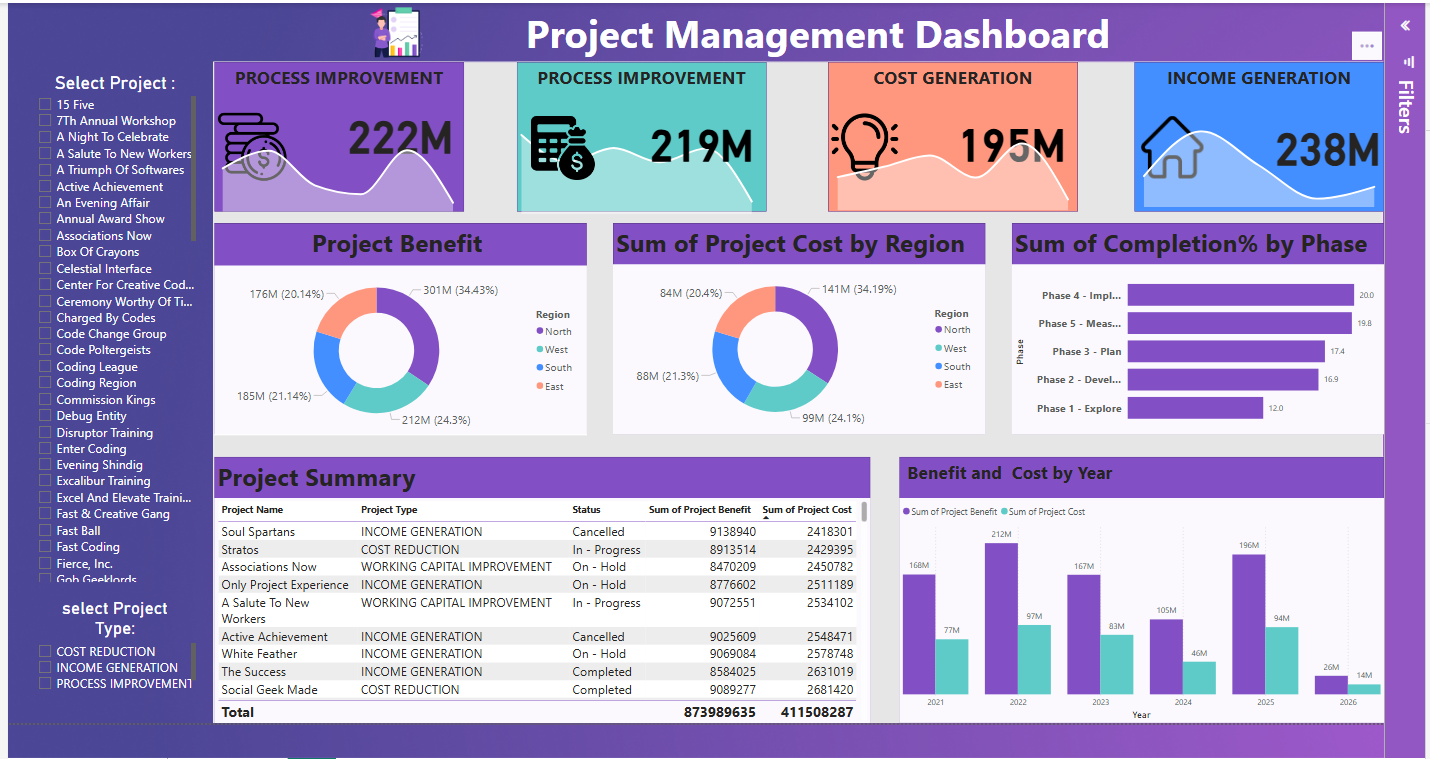

The page's visual inventory and layout, read from the dashboard file:
{"tool":"powerbi","page":{"name":"dash pord","canvas":[2100,1100],"ordinal":0},"visuals":[{"type":"shape","box":[312.9,89.7,1785.6,1011.1],"z":0},{"type":"slicer","title":"Select Project :","fields":{"Values":["Project Management Dataset.Project Name"]},"box":[34.3,104.9,257.5,784.1],"z":1000},{"type":"slicer","title":"select Project Type:","fields":{"Values":["Project Management Dataset.Project Type"]},"box":[34.3,908.1,257.5,148.8],"z":2000},{"type":"shape","box":[314.8,89.7,381.5,228.9],"z":3000},{"type":"shape","box":[776.4,89.7,381.5,228.9],"z":4000},{"type":"shape","box":[1251.5,89.7,381.5,228.9],"z":5000},{"type":"shape","box":[1718.8,89.7,381.5,228.9],"z":6000},{"type":"shape","box":[314.8,335.8,568.5,322.4],"z":7000},{"type":"shape","box":[1531.9,335.8,568.5,322.4],"z":8000},{"type":"shape","box":[923.3,335.8,568.5,322.4],"z":9000},{"type":"shape","box":[314.8,692.5,1001.5,408.2],"z":10000},{"type":"shape","box":[1360.2,692.5,740.2,408.2],"z":11000},{"type":"textbox","box":[314.8,89.7,381.5,72.5],"z":12000},{"type":"image","box":[314.8,162.2,116.4,114.5],"z":13000},{"type":"card","fields":{"Values":["Daxpr.proceess"]},"box":[503.6,146.9,190.8,99.2],"z":14000},{"type":"areaChart","fields":{"Y":["Daxpr.proceess"],"Category":["pr.End Date.Variation.Date Hierarchy.Year"]},"box":[312.9,185,381.5,139.3],"z":15000},{"type":"textbox","box":[1718.8,89.7,381.5,72.5],"z":16000},{"type":"textbox","box":[776.4,89.7,381.5,72.5],"z":17000},{"type":"textbox","box":[1251.5,89.7,381.5,72.5],"z":18000},{"type":"textbox","box":[1718.8,89.7,381.5,72.5],"z":19000},{"type":"areaChart","fields":{"Y":["Daxpr.working"],"Category":["pr.End Date.Variation.Date Hierarchy.Year"]},"box":[768.8,171.7,381.5,156.4],"z":20000},{"type":"image","box":[776.4,166,141.2,110.6],"z":21000},{"type":"card","fields":{"Values":["Daxpr.working"]},"box":[959.6,162.2,198.4,91.6],"z":22000},{"type":"image","box":[1251.5,162.2,112.6,114.5],"z":23000},{"type":"card","fields":{"Values":["Daxpr.cost"]},"box":[1436.5,162.2,190.8,91.6],"z":24000},{"type":"image","box":[1718.8,167.9,116.4,104.9],"z":25000},{"type":"card","fields":{"Values":["Daxpr.incme"]},"box":[1928.7,166,171.7,95.4],"z":26000},{"type":"areaChart","fields":{"Y":["Daxpr.incme"],"Category":["pr.End Date.Variation.Date Hierarchy.Year"]},"box":[1718.8,181.2,381.5,135.4],"z":27000},{"type":"areaChart","fields":{"Y":["Daxpr.cost"],"Category":["pr.End Date.Variation.Date Hierarchy.Year"]},"box":[1251.5,188.9,381.5,133.5],"z":28000},{"type":"textbox","box":[923.3,335.8,568.5,64.9],"z":29000},{"type":"textbox","box":[314.8,335.8,568.5,64.9],"z":30000},{"type":"textbox","box":[1531.9,335.8,568.5,64.9],"z":31000},{"type":"donutChart","title":"Project Benefit ","fields":{"Y":["Sum(Project Management Dataset.Project Benefit)"],"Category":["Project Management Dataset.Region"]},"box":[314.8,400.6,568.5,259.4],"z":32000},{"type":"donutChart","fields":{"Y":["Sum(Project Management Dataset.Project Cost)"],"Category":["Project Management Dataset.Region"]},"box":[923.3,398.7,568.5,259.4],"z":33000},{"type":"clusteredBarChart","fields":{"Y":["Sum(pr.Completion%)"],"Category":["pr.Phase"]},"box":[1531.9,398.7,568.5,259.4],"z":34000},{"type":"textbox","box":[314.8,692.5,1001.5,63],"z":35000},{"type":"tableEx","fields":{"Values":["Project Management Dataset.Project Name","Project Management Dataset.Project Type","Project Management Dataset.Status","Sum(Project Management Dataset.Project Benefit)","Sum(Project Management Dataset.Project Cost)"]},"box":[314.8,755.5,1001.5,345],"z":36000},{"type":"clusteredColumnChart","fields":{"Y":["Sum(Project Management Dataset.Project Benefit)","Sum(Project Management Dataset.Project Cost)"],"Category":["pr.End Date.Variation.Date Hierarchy.Year"]},"box":[1360.2,755.5,740.2,343.4],"z":37000},{"type":"textbox","box":[1360.2,692.5,740.2,63],"z":38000},{"type":"image","box":[503.6,0,177.4,89.7],"z":39000},{"type":"textbox","box":[373.9,0,1724.6,89.7],"z":40000}]}

Visuals, with their boxes on the page's 2100x1100 design canvas (x1, y1, x2, y2). These are canvas units, not pixel positions in the 1430x759 screenshot, which may show the page scaled, cropped or inside an application window:
shape: <region>313, 90, 2098, 1101</region>
"Select Project :" slicer: <region>34, 105, 292, 889</region>
"select Project Type:" slicer: <region>34, 908, 292, 1057</region>
shape: <region>315, 90, 696, 319</region>
shape: <region>776, 90, 1158, 319</region>
shape: <region>1252, 90, 1633, 319</region>
shape: <region>1719, 90, 2100, 319</region>
shape: <region>315, 336, 883, 658</region>
shape: <region>1532, 336, 2100, 658</region>
shape: <region>923, 336, 1492, 658</region>
shape: <region>315, 692, 1316, 1101</region>
shape: <region>1360, 692, 2100, 1101</region>
textbox: <region>315, 90, 696, 162</region>
image: <region>315, 162, 431, 277</region>
card - Daxpr.proceess: <region>504, 147, 694, 246</region>
areaChart - Daxpr.proceess x pr.End Date.Variation.Date Hierarchy.Year: <region>313, 185, 694, 324</region>
textbox: <region>1719, 90, 2100, 162</region>
textbox: <region>776, 90, 1158, 162</region>
textbox: <region>1252, 90, 1633, 162</region>
textbox: <region>1719, 90, 2100, 162</region>
areaChart - Daxpr.working x pr.End Date.Variation.Date Hierarchy.Year: <region>769, 172, 1150, 328</region>
image: <region>776, 166, 918, 277</region>
card - Daxpr.working: <region>960, 162, 1158, 254</region>
image: <region>1252, 162, 1364, 277</region>
card - Daxpr.cost: <region>1436, 162, 1627, 254</region>
image: <region>1719, 168, 1835, 273</region>
card - Daxpr.incme: <region>1929, 166, 2100, 261</region>
areaChart - Daxpr.incme x pr.End Date.Variation.Date Hierarchy.Year: <region>1719, 181, 2100, 317</region>
areaChart - Daxpr.cost x pr.End Date.Variation.Date Hierarchy.Year: <region>1252, 189, 1633, 322</region>
textbox: <region>923, 336, 1492, 401</region>
textbox: <region>315, 336, 883, 401</region>
textbox: <region>1532, 336, 2100, 401</region>
"Project Benefit " donutChart: <region>315, 401, 883, 660</region>
donutChart - Sum(Project Management Dataset.Project Cost) x Project Management Dataset.Region: <region>923, 399, 1492, 658</region>
clusteredBarChart - Sum(pr.Completion%) x pr.Phase: <region>1532, 399, 2100, 658</region>
textbox: <region>315, 692, 1316, 756</region>
tableEx - Project Management Dataset.Project Name x Project Management Dataset.Project Type: <region>315, 756, 1316, 1100</region>
clusteredColumnChart - Sum(Project Management Dataset.Project Benefit) x Sum(Project Management Dataset.Project Cost): <region>1360, 756, 2100, 1099</region>
textbox: <region>1360, 692, 2100, 756</region>
image: <region>504, 0, 681, 90</region>
textbox: <region>374, 0, 2098, 90</region>
